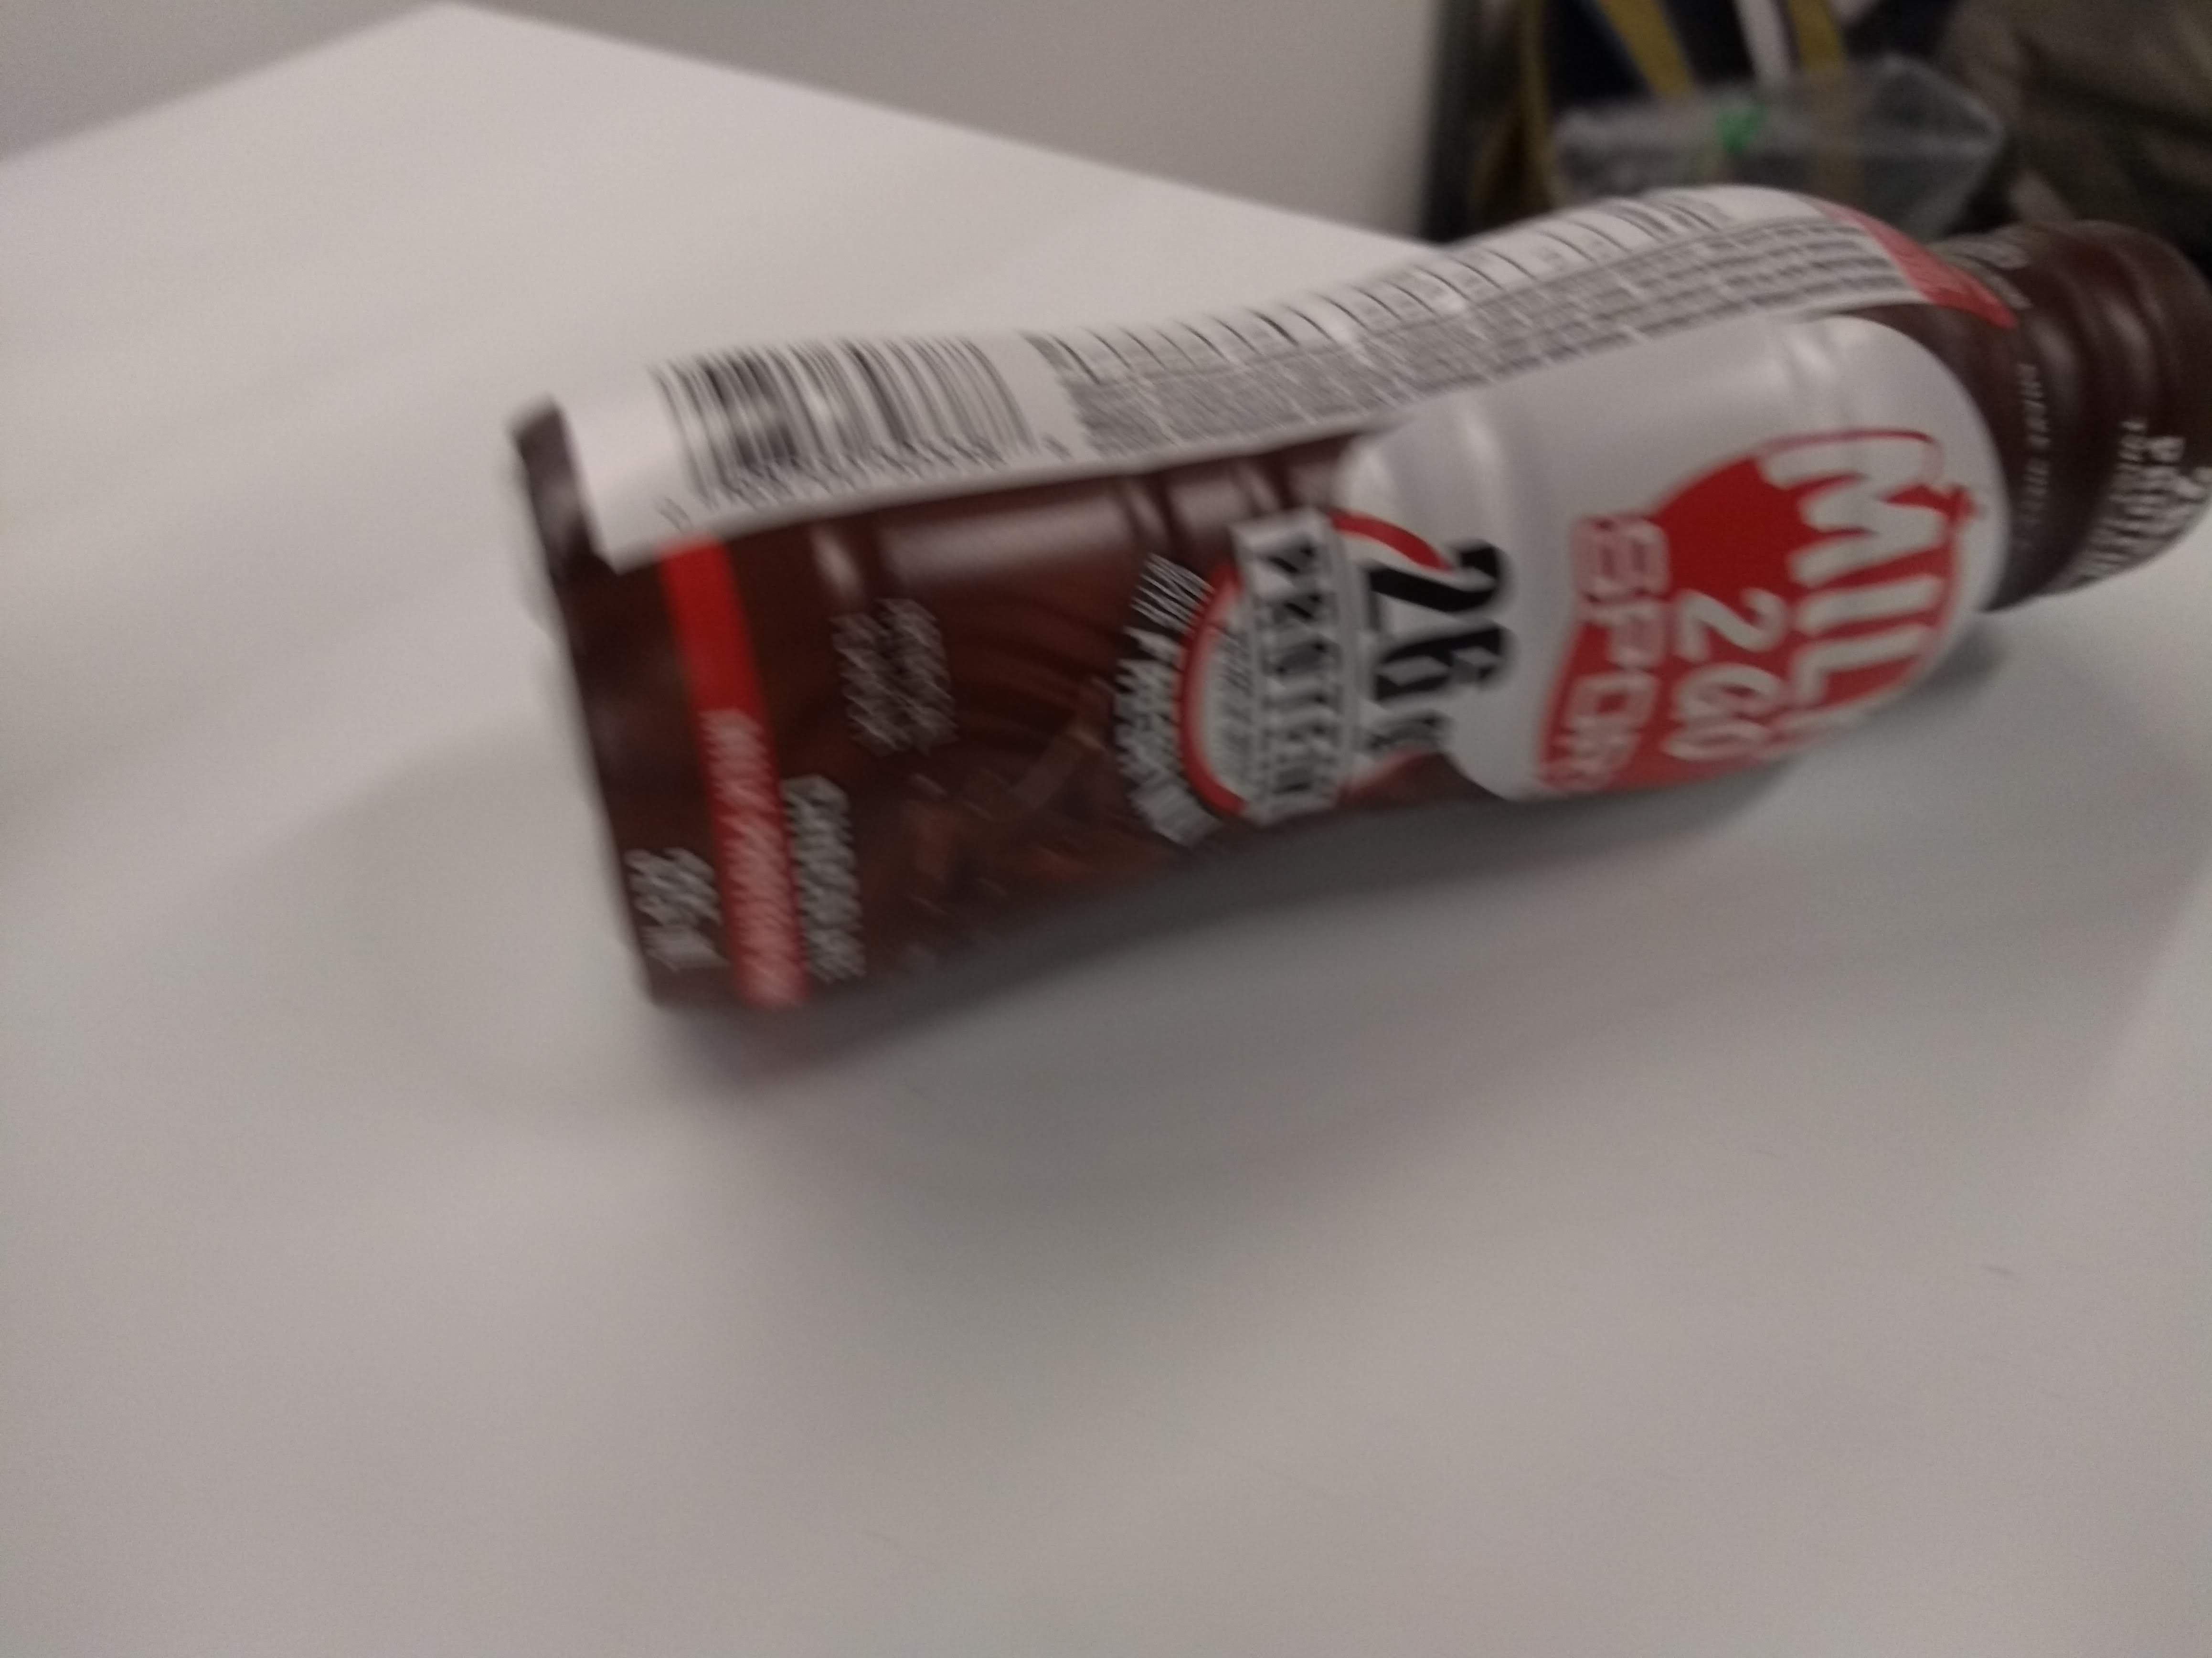chocolate_drink: (456, 185, 2212, 1054)
